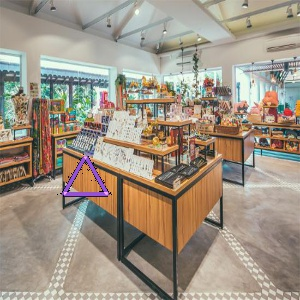triangle: (60, 152, 112, 200)
